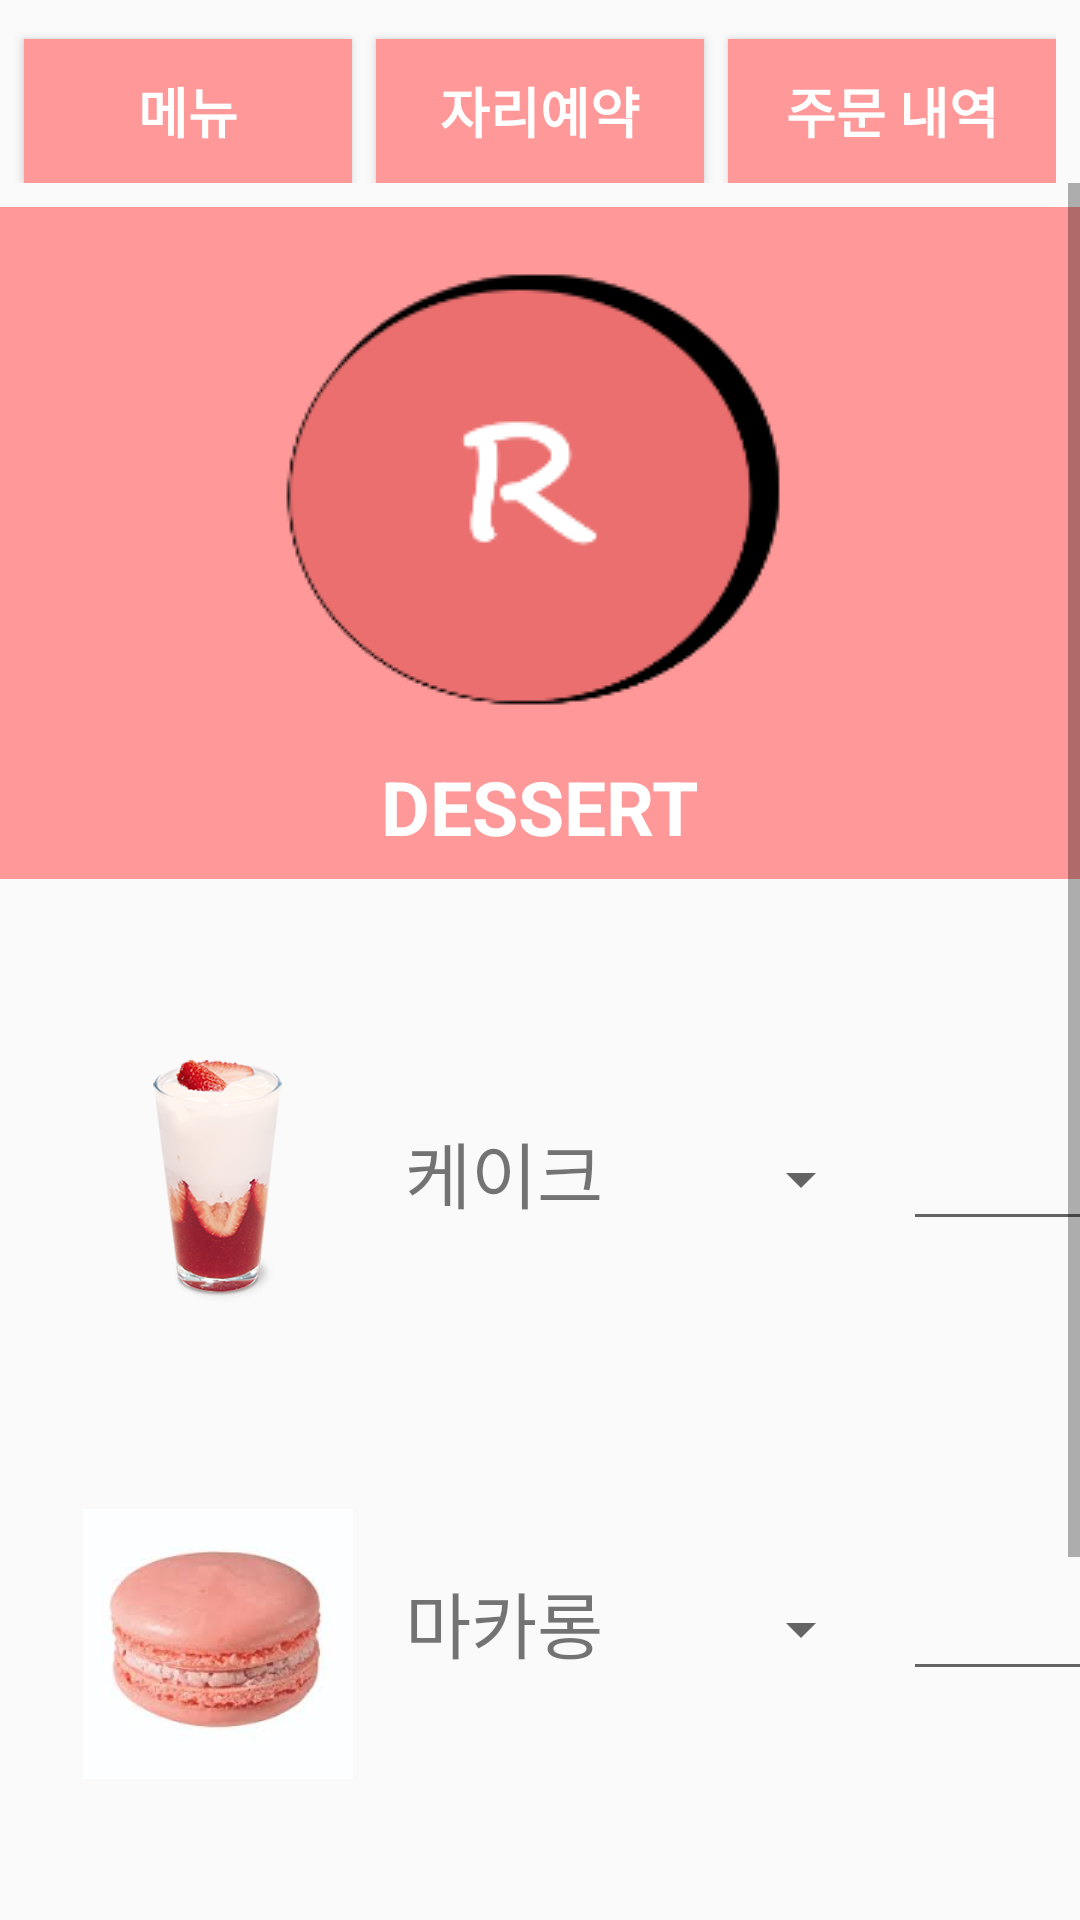

Point at icon controls on the screen. Image size 1080×1920, points as (x=x, y=y).
berry: (x=217, y=1179)
